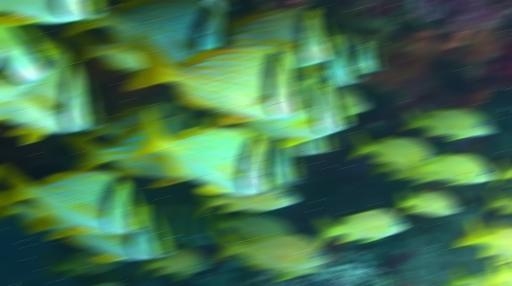Fish: (125, 35, 306, 122), (134, 107, 275, 194), (64, 0, 231, 64), (0, 164, 145, 233), (0, 58, 99, 143), (65, 124, 189, 186), (239, 79, 350, 145), (46, 206, 171, 261), (232, 8, 337, 66), (213, 231, 328, 274), (0, 27, 59, 100), (296, 36, 381, 86), (87, 101, 190, 138), (296, 35, 363, 86), (315, 209, 404, 245), (196, 185, 297, 216), (401, 107, 494, 140), (148, 202, 213, 246), (70, 33, 145, 71), (351, 133, 434, 167), (209, 210, 292, 242), (410, 154, 493, 184), (0, 0, 103, 24), (139, 249, 210, 280), (455, 219, 511, 258), (44, 249, 123, 276), (0, 201, 66, 233), (261, 137, 300, 185), (336, 35, 381, 73), (395, 190, 458, 215), (329, 85, 368, 114), (373, 164, 430, 182), (287, 137, 332, 155), (452, 267, 492, 285), (483, 189, 511, 213), (492, 158, 511, 186), (493, 259, 511, 285), (216, 0, 234, 12), (99, 284, 118, 285), (0, 8, 3, 13)
